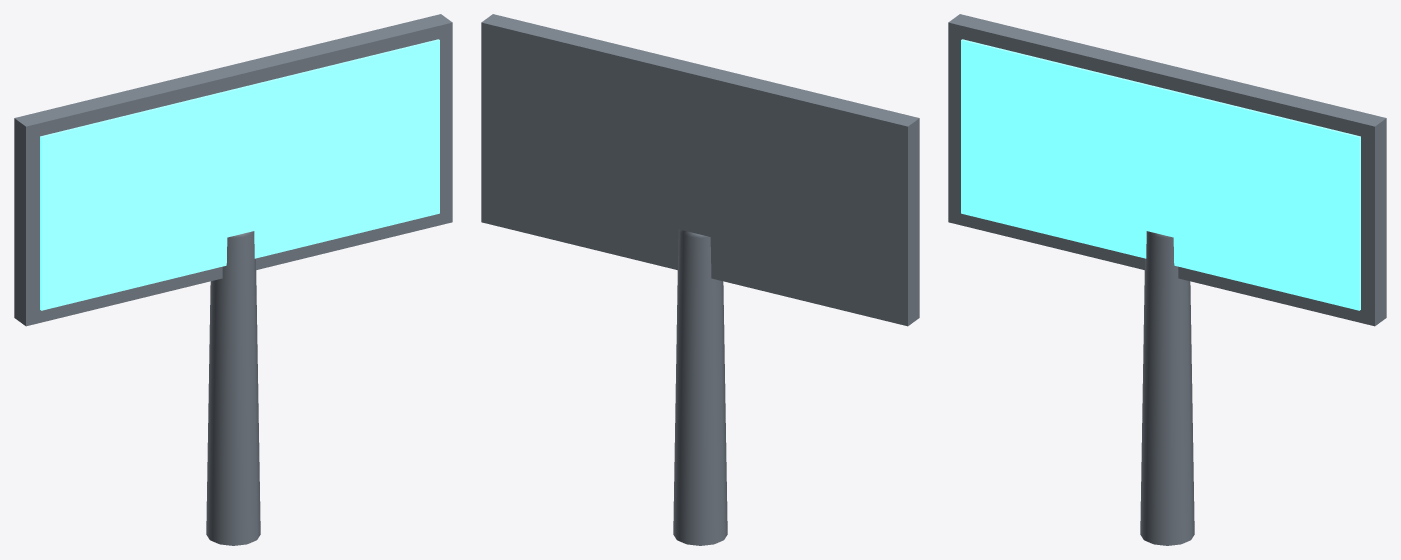
The model's file is urb_neon_billboard.glb.
3 views of the same model, side by side, from view 1: azimuth 30°, elevation 25°; view 2: azimuth 150°, elevation 25°; view 3: azimuth 330°, elevation 25° (orthographic).
Visible parts, largest first — view 1: lamp_lens, structure; view 2: structure; view 3: lamp_lens, structure.
Part boxes in pixels (x1,y1,x2,y2): lamp_lens: [40, 39, 439, 310]; structure: [14, 14, 452, 545]; structure: [481, 14, 919, 545]; lamp_lens: [961, 39, 1360, 310]; structure: [948, 14, 1386, 545].
Size of the model in its own units: 7.6 by 7.9 by 0.84.
